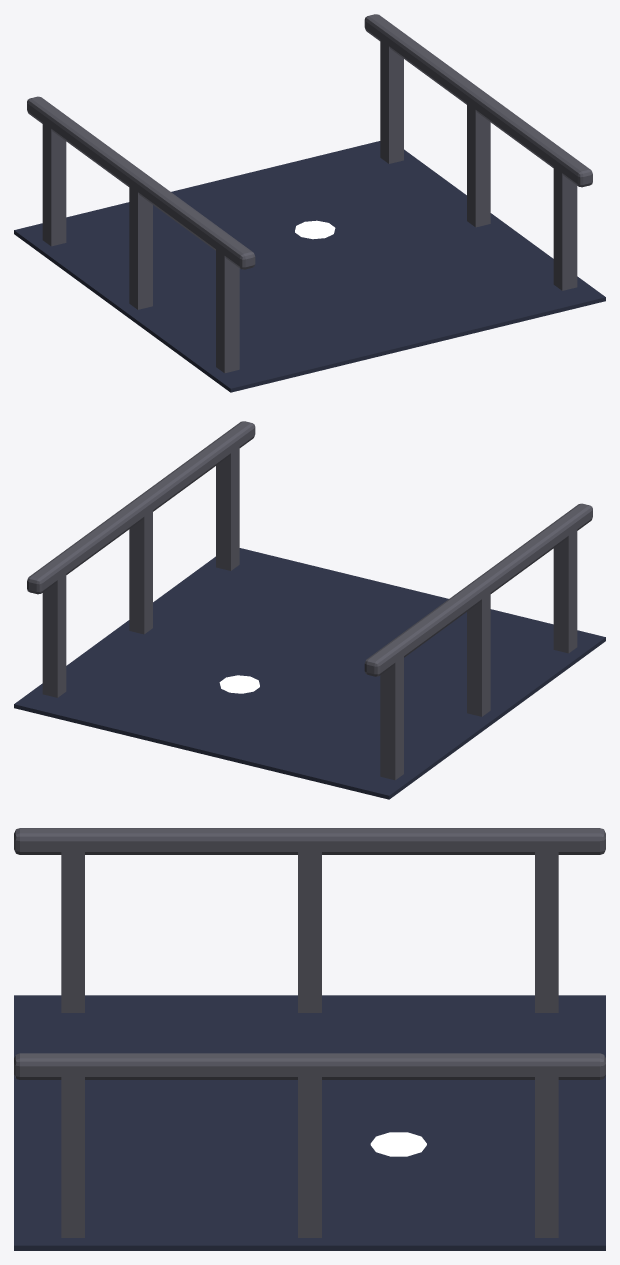
Rendered from alley.glb.
3 renders of one model, top to bottom at view 1: azimuth 30°, elevation 25°; view 2: azimuth 150°, elevation 25°; view 3: azimuth 270°, elevation 25°, orthographic. The views are drawn at different scales.
Parts seen in each view (by area): view 1: alley; view 2: alley; view 3: alley.
Part boxes in pixels (box(x1,y1,x2,y2)): alley: box(14, 14, 605, 392); alley: box(14, 421, 605, 799); alley: box(14, 828, 605, 1250).
Size of the model in its own units: 1 by 0.34 by 1.
